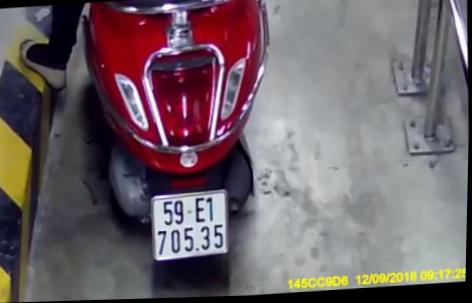LP: (150, 192, 233, 261)
